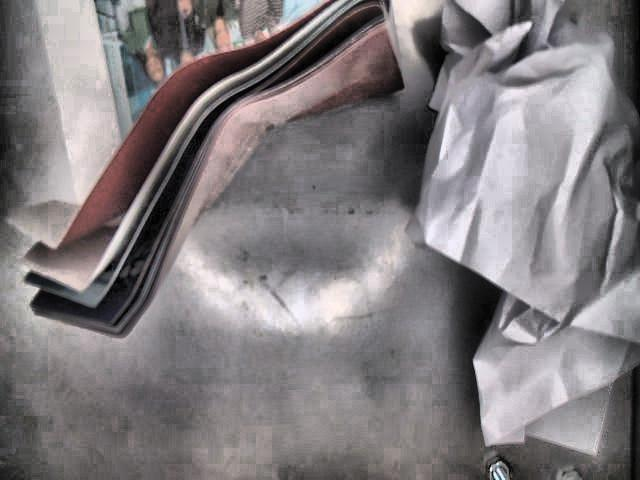Paper: (4, 0, 407, 335), (405, 0, 640, 458)
